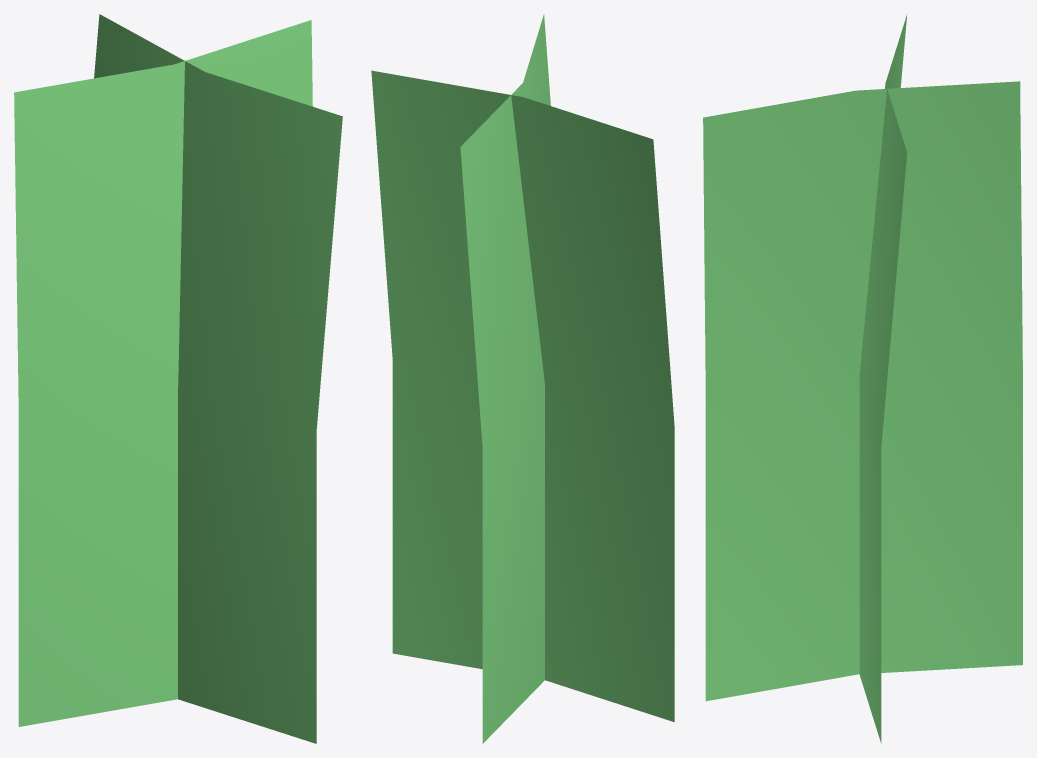
Rendered from GrassPlanes_a_TwoS_02.fbx.
3 renders of one model, left to right at view 1: azimuth 30°, elevation 25°; view 2: azimuth 150°, elevation 25°; view 3: azimuth 270°, elevation 25°, orthographic. The views are drawn at different scales.
Visible parts, largest first — view 1: GrassPlanes_a_TwoS_02; view 2: GrassPlanes_a_TwoS_02; view 3: GrassPlanes_a_TwoS_02.
Part boxes in pixels (left/top/right/bottom): GrassPlanes_a_TwoS_02: left=14, top=14, right=342, bottom=743; GrassPlanes_a_TwoS_02: left=371, top=14, right=674, bottom=743; GrassPlanes_a_TwoS_02: left=703, top=14, right=1022, bottom=743.
Size of the model in its own units: 29.72 by 57.71 by 28.1.
